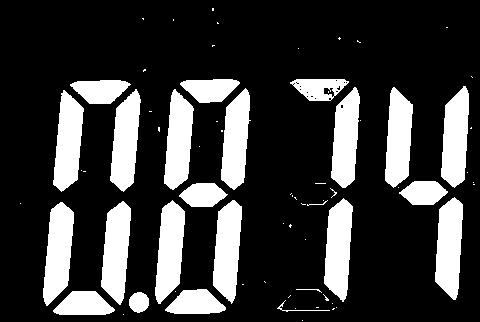0: (42, 76, 142, 319)
3: (276, 75, 366, 315)
4: (385, 82, 473, 302)
8: (155, 78, 253, 316)
dot: (128, 290, 150, 314)
